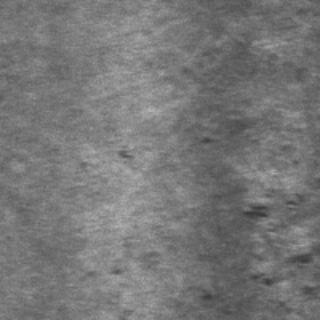rolled pit: (232, 179, 318, 305)
